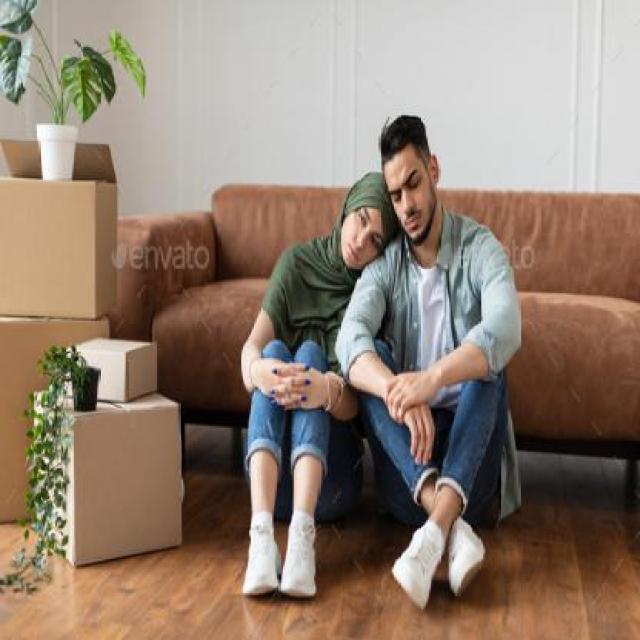box: (24, 379, 188, 593), (0, 308, 117, 556), (0, 126, 122, 324), (72, 330, 176, 428)
